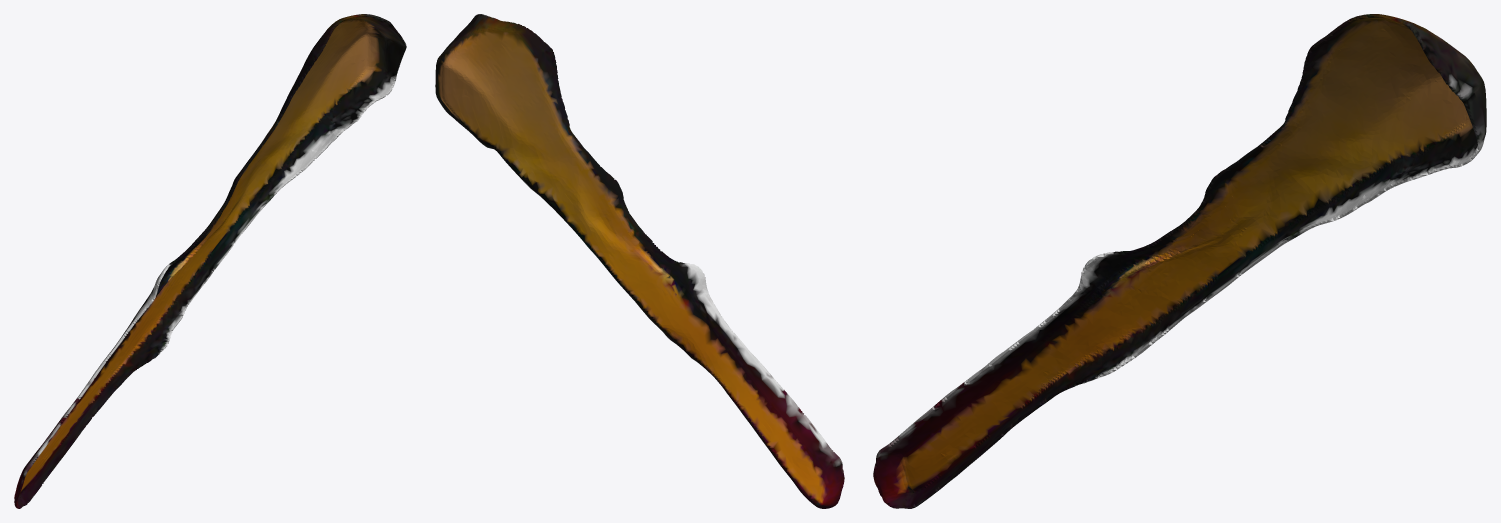
File: quarters.glb
3 renders of one model, left to right at view 1: azimuth 30°, elevation 25°; view 2: azimuth 150°, elevation 25°; view 3: azimuth 330°, elevation 25°, orthographic. The views are drawn at different scales.
Parts seen in each view (by area): view 1: geometry_0; view 2: geometry_0; view 3: geometry_0.
Part boxes in pixels (left/top/right/bottom): geometry_0: left=14, top=14, right=406, bottom=508; geometry_0: left=435, top=14, right=844, bottom=508; geometry_0: left=873, top=14, right=1486, bottom=508.
Size of the model in its own units: 0.8747 by 0.875 by 0.1166.
